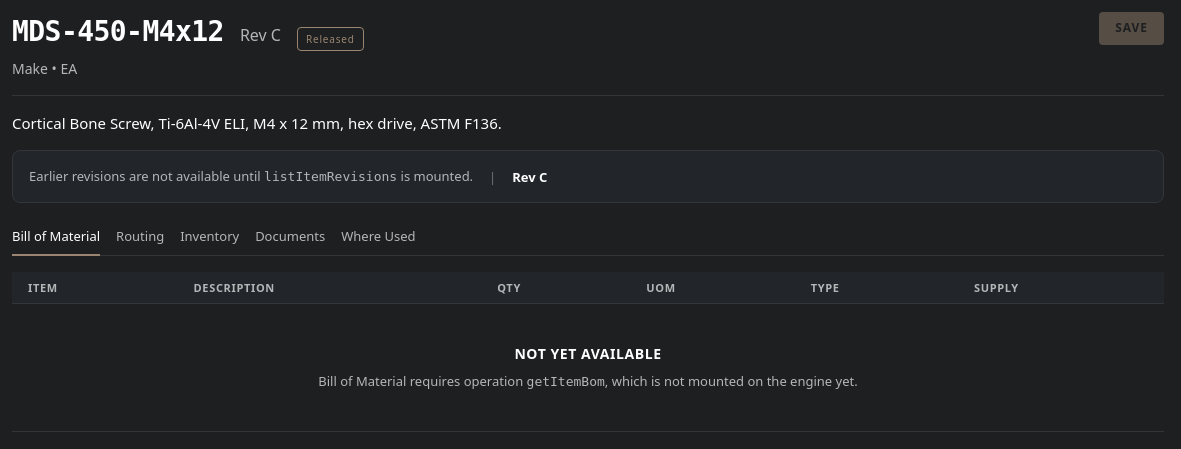
Test: item master screen › shows a Not yet available state on the {"operationId":"listItemDocuments","label":"Documents"} tab
Expected: the heading "MDS-450-M4x12" is shown, [12,12,224,51]
Click the tab "Documents" at (290, 238), box [255,220,325,256]
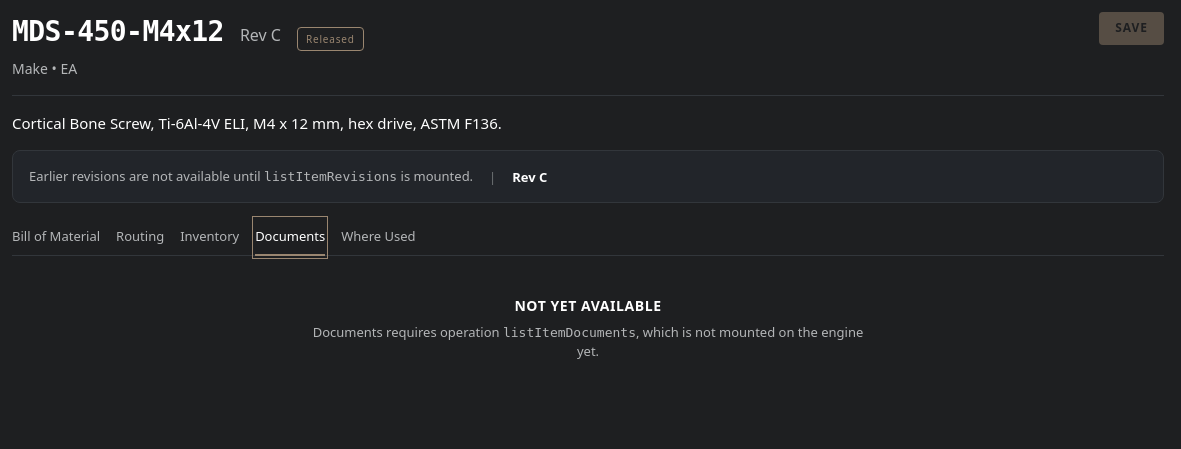
Expected: the text "listItemDocuments" is shown, [503,325,636,340]
